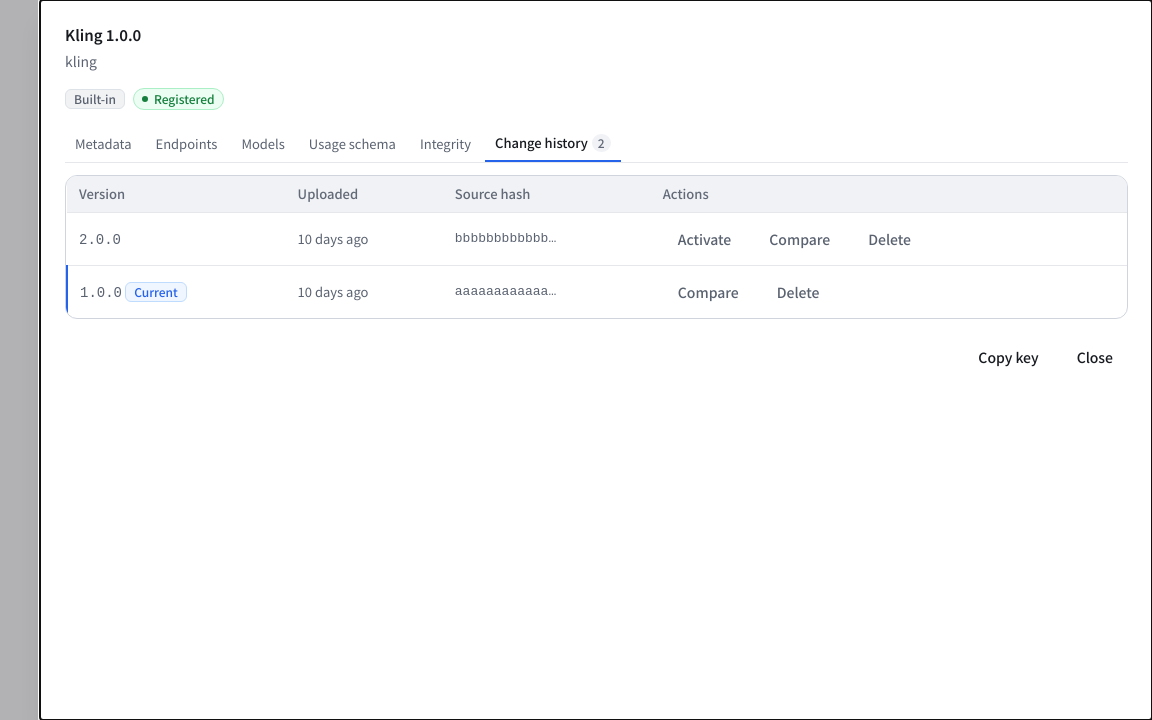
Test: plugin detail drawer (F-08-29/31) › confirms deletion of an active version with the promotion warning
The image size is (1152, 720).
Expected: the row with test id "plugin-version-row" that starts with "Current" is shown, [67,266,1127,318]
Step 1. Click the button "Delete" in the row of "Current" → (798, 292), box [762,274,834,310]
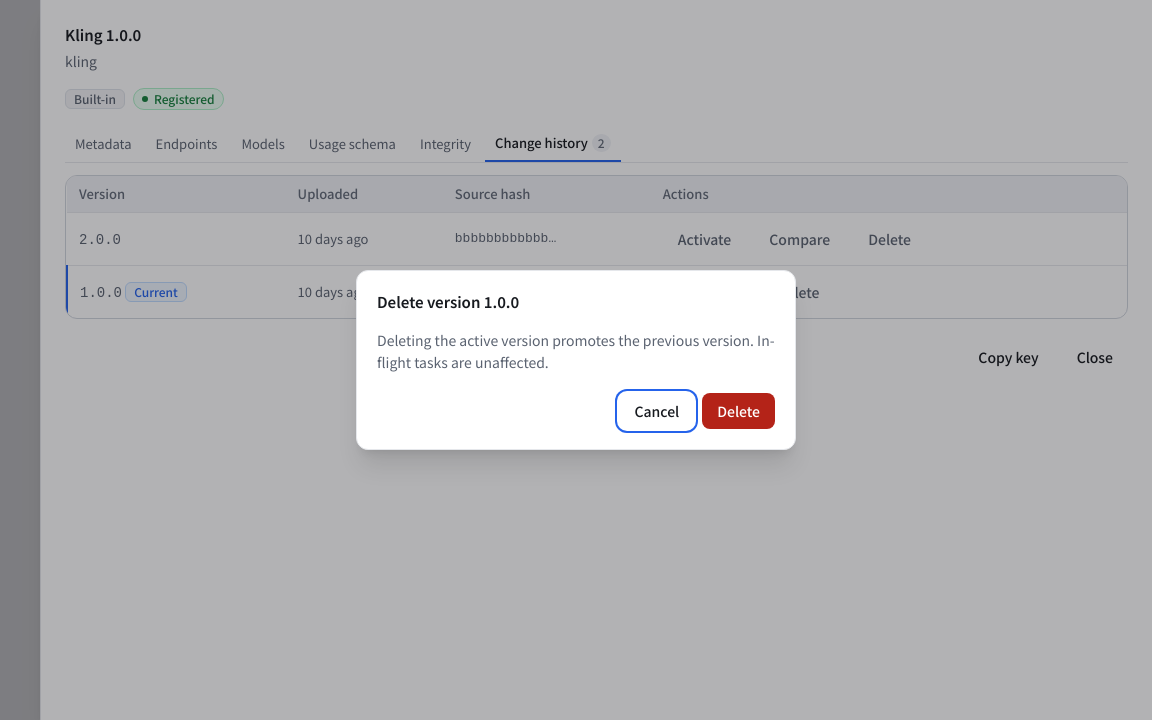
Expected: the text "Deleting the active version promotes the previous version. In-flight tasks are unaffected." is shown, [377,330,775,372]
